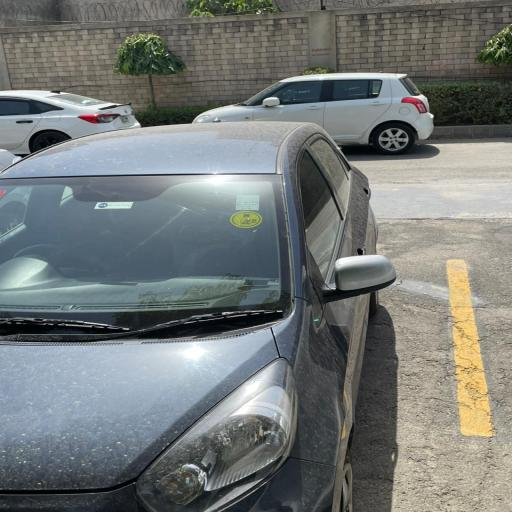bnu_sticker: (230, 210, 264, 229)
